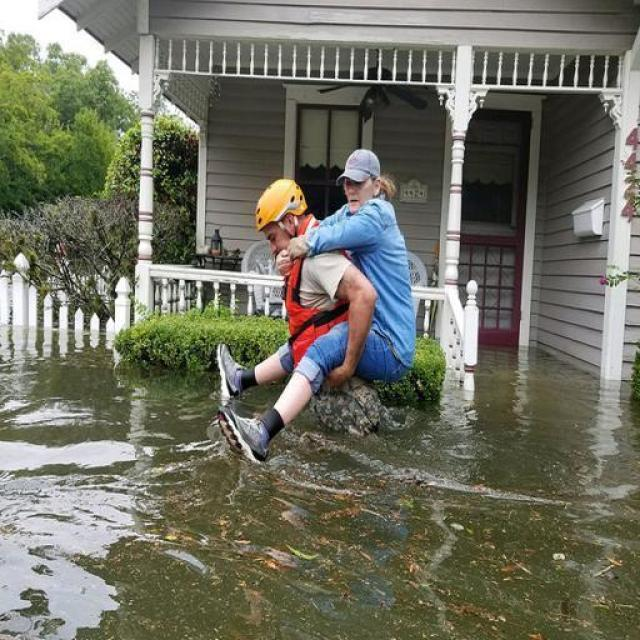rescuer: (235, 168, 381, 446)
